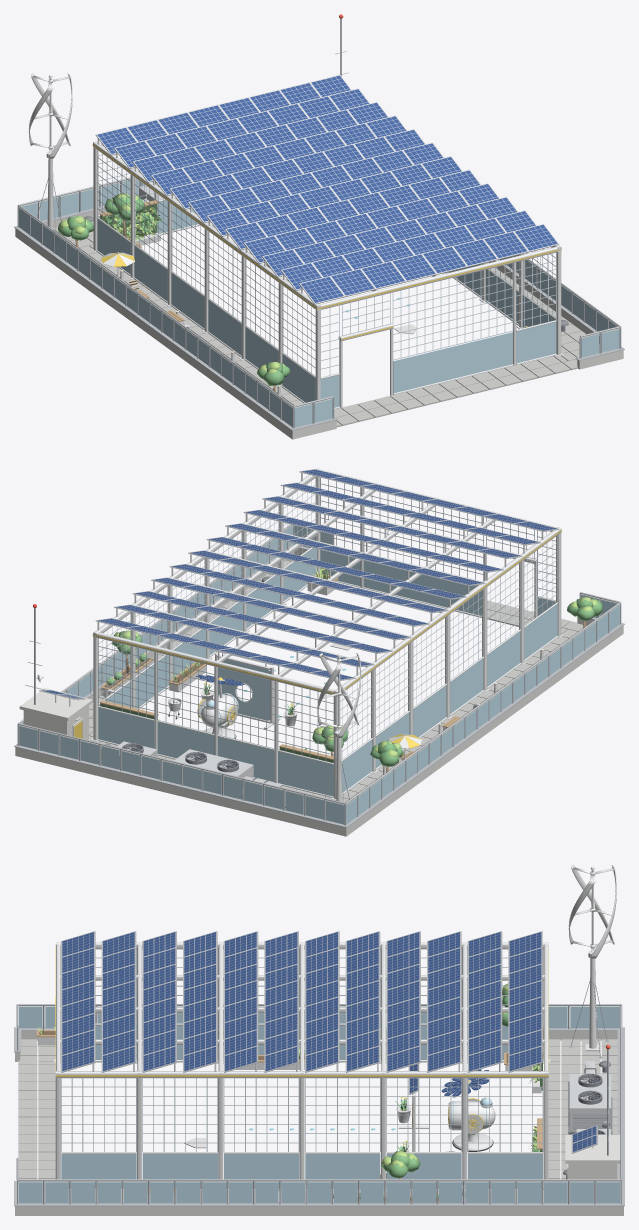
File: SolarRooftopCage.fbx
3 renders of one model, top to bottom at view 1: azimuth 30°, elevation 25°; view 2: azimuth 150°, elevation 25°; view 3: azimuth 270°, elevation 25°, orthographic. The views are drawn at different scales.
Parts seen in each view (by area): view 1: SolarPanels, SolarGlass, SolarPanelGrid, SolarFrame, SolarMesh, SolarPanelRims, SolarDeck, SolarRailing, SolarParapet, SolarLeaves, SolarTurbineRotor, SolarAccent (+2 smaller); view 2: SolarGlass, SolarFrame, SolarPanels, SolarMesh, SolarPanelRims, SolarRailing, SolarParapet, SolarPanelGrid, SolarDeck, SolarHut, SolarLeaves, SolarScreen (+9 smaller); view 3: SolarPanels, SolarGlass, SolarFrame, SolarPanelGrid, SolarPanelRims, SolarMesh, SolarDeck, SolarRailing, SolarParapet, SolarHut, SolarHVAC, SolarMachineBody (+8 smaller).
Part boxes in pixels (<box>): SolarPanels: <box>97,75,557,302</box>; SolarGlass: <box>19,178,619,427</box>; SolarPanelGrid: <box>99,77,554,301</box>; SolarFrame: <box>46,75,563,409</box>; SolarMesh: <box>97,150,556,377</box>; SolarPanelRims: <box>95,75,559,304</box>; SolarDeck: <box>54,221,599,427</box>; SolarRailing: <box>14,18,624,430</box>; SolarParapet: <box>15,208,623,439</box>; SolarLeaves: <box>58,193,290,386</box>; SolarTurbineRotor: <box>28,73,72,158</box>; SolarAccent: <box>92,144,561,309</box>; SolarGlass: <box>19,525,619,824</box>; SolarFrame: <box>55,468,563,801</box>; SolarPanels: <box>43,469,556,698</box>; SolarMesh: <box>98,477,557,763</box>; SolarPanelRims: <box>39,469,559,699</box>; SolarRailing: <box>14,524,624,827</box>; SolarParapet: <box>15,548,623,836</box>; SolarPanelGrid: <box>62,470,551,697</box>; SolarDeck: <box>89,560,586,813</box>; SolarHut: <box>19,688,92,748</box>; SolarLeaves: <box>106,568,602,766</box>; SolarScreen: <box>217,659,270,720</box>; SolarPanels: <box>62,932,596,1151</box>; SolarGlass: <box>19,1006,619,1203</box>; SolarFrame: <box>54,866,599,1196</box>; SolarPanelGrid: <box>62,933,595,1150</box>; SolarPanelRims: <box>61,931,597,1153</box>; SolarMesh: <box>61,949,543,1152</box>; SolarDeck: <box>18,1039,617,1202</box>; SolarRailing: <box>14,981,624,1206</box>; SolarParapet: <box>15,1031,623,1215</box>; SolarHut: <box>565,1134,620,1201</box>; SolarHVAC: <box>462,1061,611,1195</box>; SolarMachineBody: <box>448,1079,495,1150</box>.
Size of the model in its own units: 1060 by 497 by 1503.
